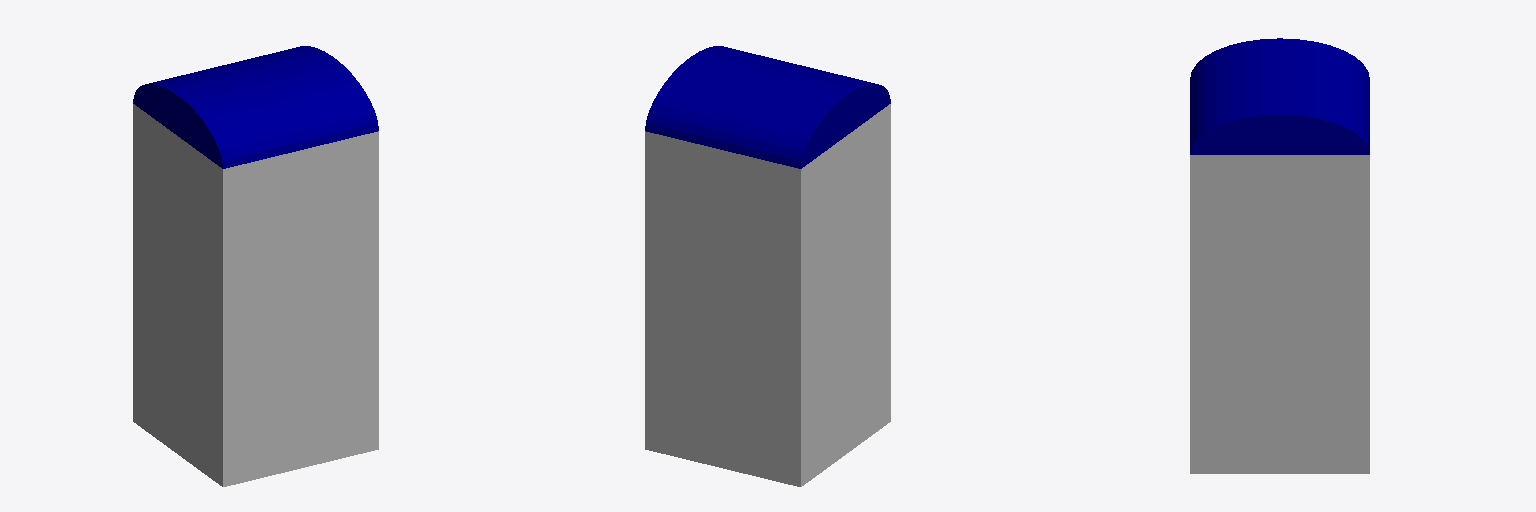
The model's file is body_r_distal_pinvround_collision.obj.
The picture shows the model from 3 angles: view 1: azimuth 30°, elevation 25°; view 2: azimuth 150°, elevation 25°; view 3: azimuth 270°, elevation 25°; orthographic projection.
Visible parts, largest first — view 1: body_r_distal_pinvround_collision_Cube.043; view 2: body_r_distal_pinvround_collision_Cube.043; view 3: body_r_distal_pinvround_collision_Cube.043.
Boxes of the visible parts, <box> form: body_r_distal_pinvround_collision_Cube.043: <box>133,46,378,486</box>; body_r_distal_pinvround_collision_Cube.043: <box>645,46,890,486</box>; body_r_distal_pinvround_collision_Cube.043: <box>1190,38,1369,473</box>.
Size of the model in its own units: 0.02 by 0.044 by 0.02.